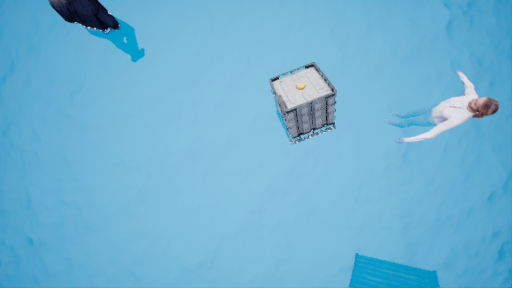person: (390, 66, 498, 153)
